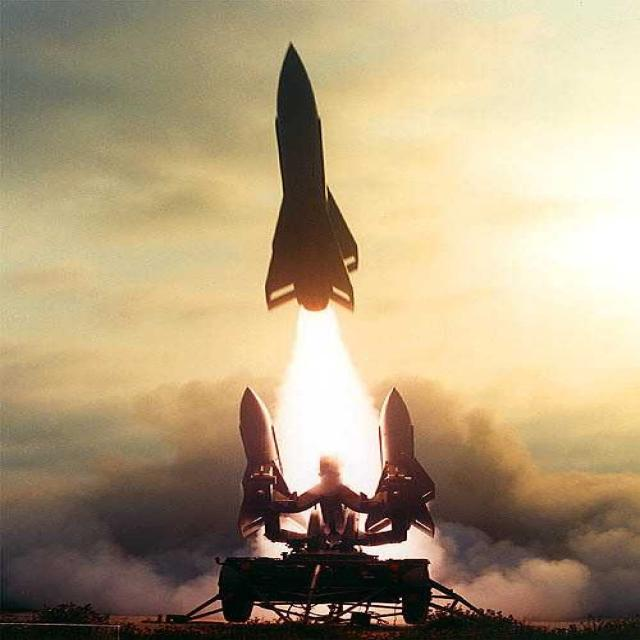missile: (256, 42, 371, 313)
